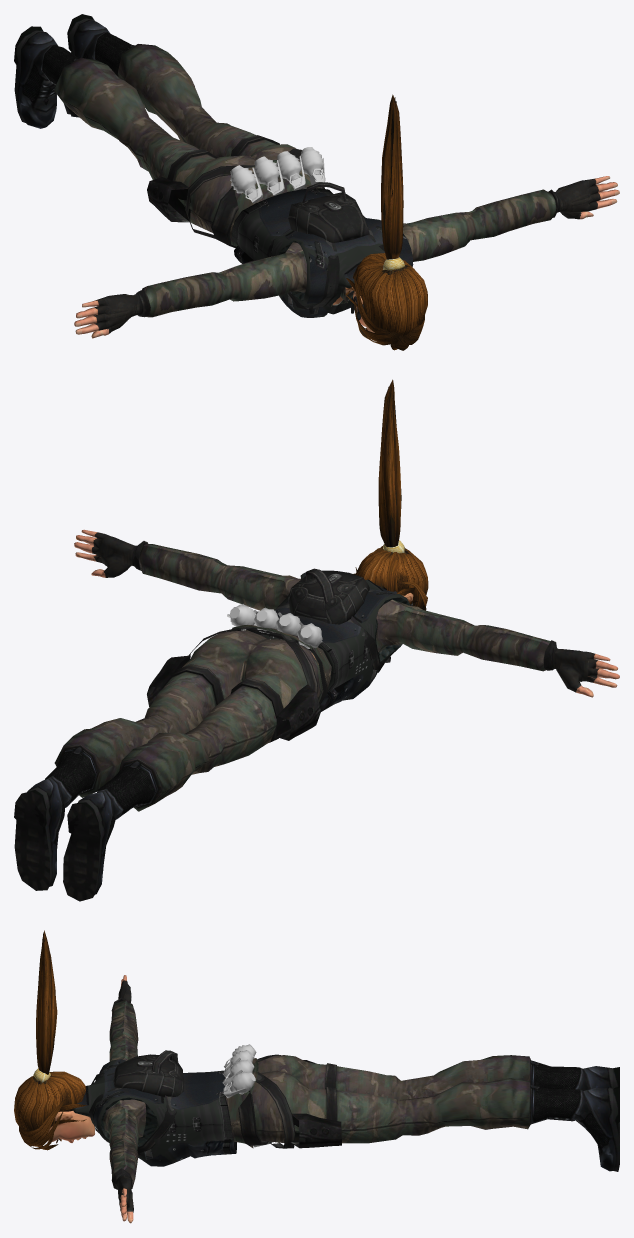
File: lara.OBJ
The picture shows the model from 3 angles, top to bottom: view 1: azimuth 30°, elevation 25°; view 2: azimuth 150°, elevation 25°; view 3: azimuth 270°, elevation 25°; orthographic projection. The views are drawn at different scales.
Parts seen in each view (by area): view 1: Obj_0004_0001, Obj_0000_0001, Obj_0001_0000, Obj_0001_0002, Obj_0000_0008, Obj_0000_0006, Obj_0004_0002, Obj_0005_0003, Obj_0003_0001, Obj_0003_0000, Obj_0005_0000, Obj_0000_0000 (+6 smaller); view 2: Obj_0004_0001, Obj_0001_0000, Obj_0000_0001, Obj_0001_0002, Obj_0000_0006, Obj_0005_0003, Obj_0004_0002, Obj_0000_0008, Obj_0003_0001, Obj_0003_0000, Obj_0006_0001; view 3: Obj_0004_0001, Obj_0000_0001, Obj_0001_0000, Obj_0001_0002, Obj_0000_0006, Obj_0004_0002, Obj_0000_0008, Obj_0005_0003, Obj_0005_0000, Obj_0003_0001, Obj_0000_0002, Obj_0006_0001 (+1 smaller).
Boxes of the visible parts, x1,y1,x2,y2 form: Obj_0004_0001: (63, 63, 555, 317); Obj_0000_0001: (97, 135, 384, 331); Obj_0001_0000: (14, 14, 592, 218); Obj_0001_0002: (54, 44, 201, 150); Obj_0000_0008: (353, 253, 427, 347); Obj_0000_0006: (248, 217, 413, 317); Obj_0004_0002: (232, 188, 333, 263); Obj_0005_0003: (345, 94, 424, 350); Obj_0003_0001: (403, 213, 470, 261); Obj_0003_0000: (76, 176, 618, 332); Obj_0005_0000: (177, 104, 216, 142); Obj_0000_0000: (230, 165, 262, 203); Obj_0004_0001: (134, 544, 550, 795); Obj_0001_0000: (14, 533, 157, 901); Obj_0000_0001: (147, 568, 593, 742); Obj_0001_0002: (54, 718, 209, 811); Obj_0000_0006: (260, 572, 410, 703); Obj_0005_0003: (353, 379, 426, 610); Obj_0004_0002: (259, 615, 377, 711); Obj_0000_0008: (355, 546, 428, 608); Obj_0003_0001: (222, 566, 297, 610); Obj_0003_0000: (74, 529, 617, 684); Obj_0006_0001: (381, 398, 398, 450); Obj_0004_0001: (103, 1000, 529, 1189); Obj_0000_0001: (89, 981, 341, 1155); Obj_0001_0000: (111, 1060, 619, 1212); Obj_0001_0002: (427, 1055, 530, 1132); Obj_0000_0006: (72, 1059, 210, 1166); Obj_0004_0002: (145, 1070, 236, 1155); Obj_0000_0008: (14, 1071, 81, 1135); Obj_0005_0003: (19, 930, 86, 1150); Obj_0005_0000: (399, 1096, 435, 1135); Obj_0003_0001: (106, 1106, 138, 1148); Obj_0000_0002: (48, 982, 123, 1142); Obj_0006_0001: (38, 948, 55, 990).
Bounding box in the file's own units: 453 × 216 × 510.
